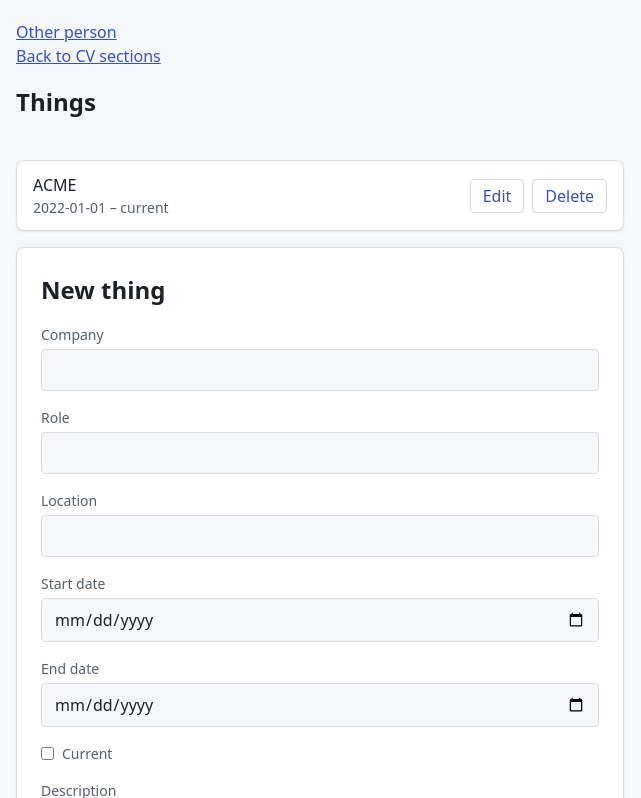
Scenario: SectionPage › shows a non-blocking notice, not the load alert, when the re-read after a save fails
Expected: the text "ACME" is shown, [33,174,76,196]
Step 1. Type "Globex" into the field labelled "Company" → x=320, y=370, box [41,349,599,391]
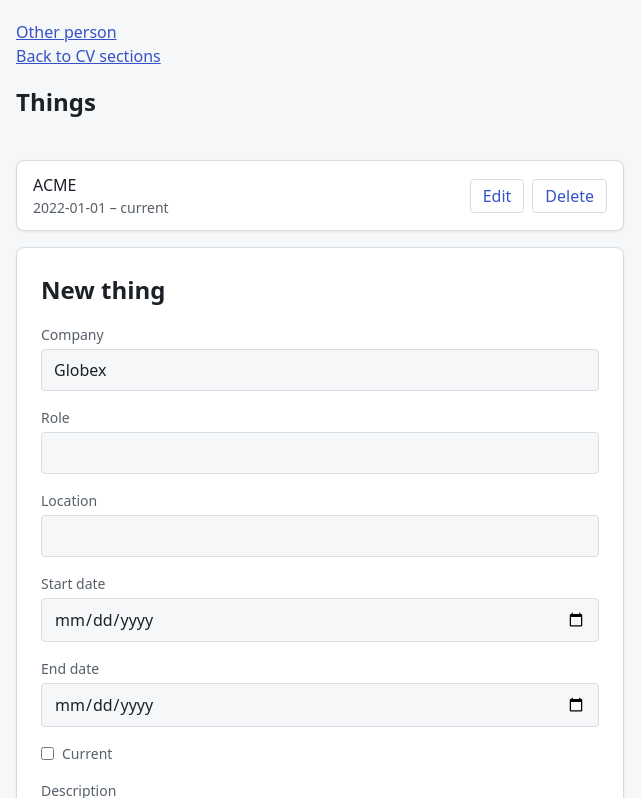
Step 2. Type "CTO" into the field labelled "Role" → x=320, y=453, box [41,432,599,474]
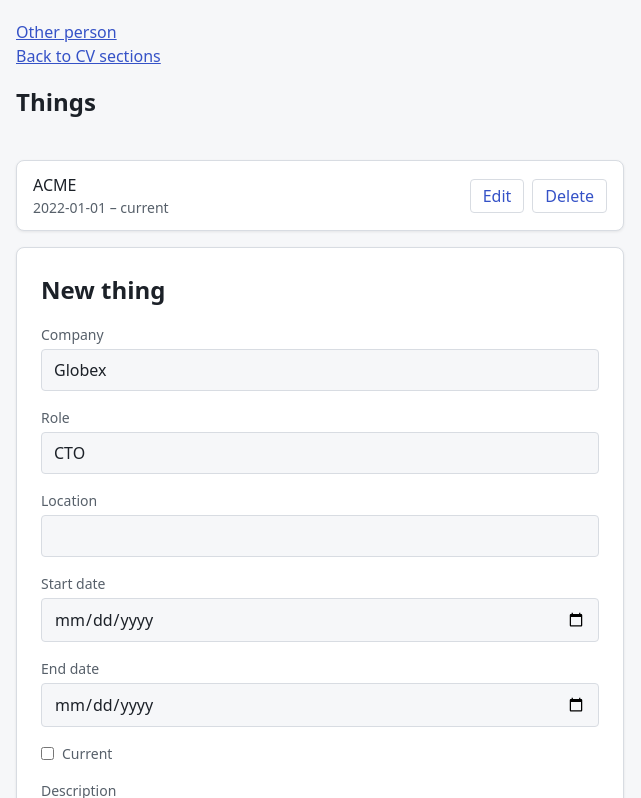
Step 3. Type "2025-01-01" into the date field labelled "Start date" → x=320, y=620, box [41,598,599,642]
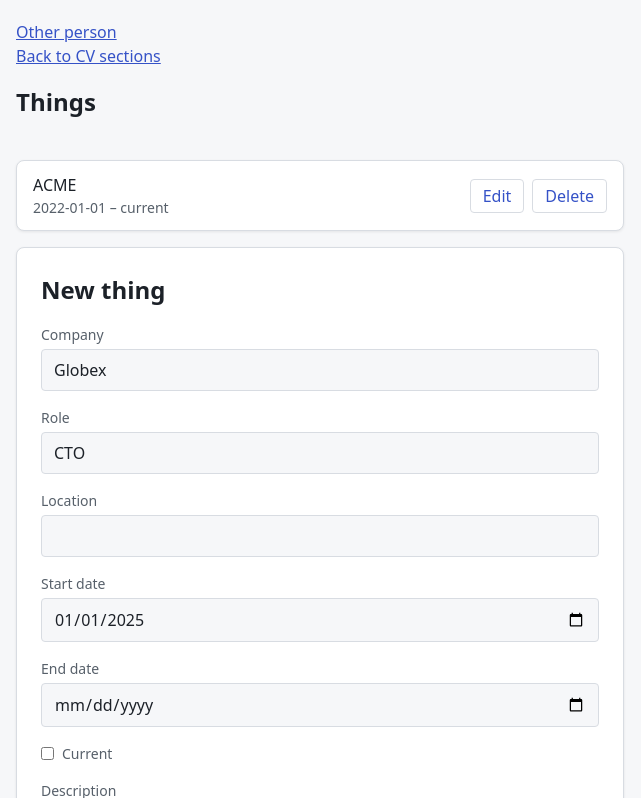
Step 4. Click the checkbox labelled "Current" → x=48, y=754, box [41,747,54,760]
(page scrolled)
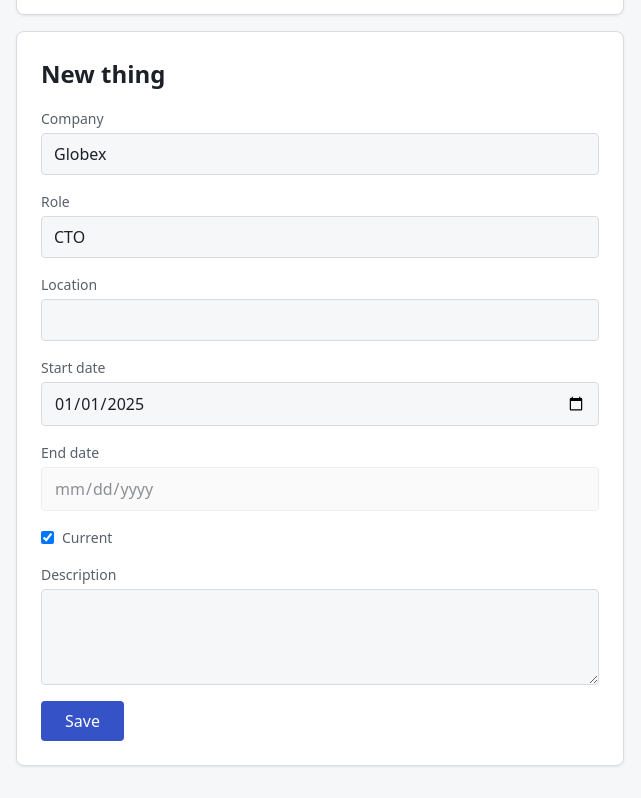
Step 5. Click the button "Save" → x=82, y=721, box [41,701,124,741]
(page scrolled)
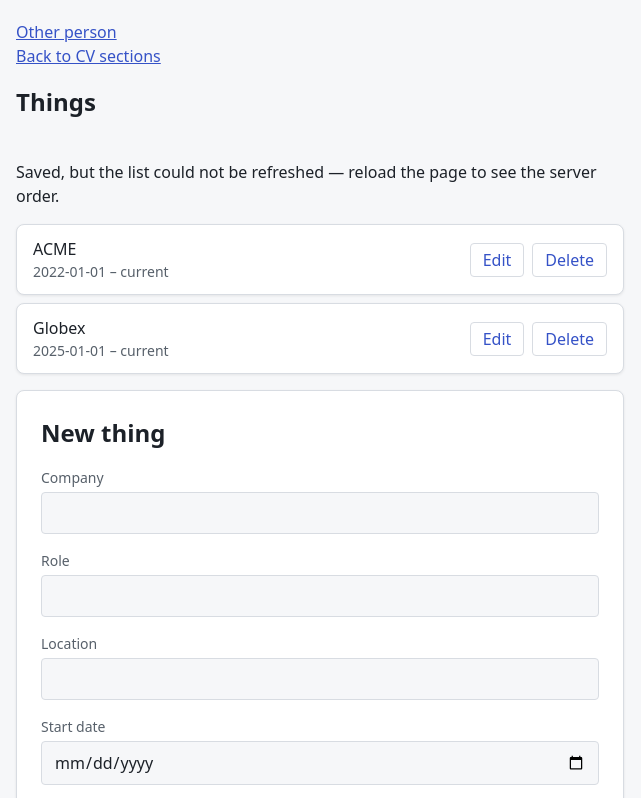
Expected: the text "ACME" is shown, [33,238,76,260]
Expected: the message shows "Saved, but the list could not be refreshed", [16,161,596,207]
Expected: the text "Globex" is shown, [33,317,86,339]
